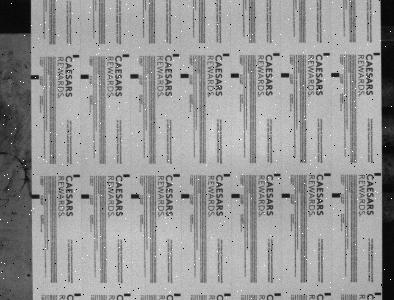qblock: (80, 74, 89, 79), (281, 73, 290, 78), (180, 74, 189, 79), (231, 193, 240, 198), (130, 74, 138, 79), (231, 73, 239, 78), (81, 194, 89, 199), (282, 193, 290, 198), (31, 75, 39, 80), (332, 193, 340, 198), (31, 194, 39, 199), (331, 73, 339, 77), (131, 194, 139, 198), (181, 194, 189, 198)
smallqblock: (223, 53, 230, 57), (373, 52, 380, 56), (223, 173, 230, 177), (374, 172, 381, 176), (174, 173, 180, 177), (273, 53, 280, 56), (73, 174, 80, 177), (123, 174, 130, 177), (274, 173, 281, 176), (74, 293, 81, 296), (274, 293, 281, 296), (174, 293, 181, 296), (224, 293, 231, 296), (324, 293, 331, 296), (124, 293, 131, 296), (122, 54, 129, 57), (323, 53, 330, 56), (73, 55, 79, 58), (173, 54, 179, 57), (324, 173, 330, 176), (375, 292, 381, 295)
